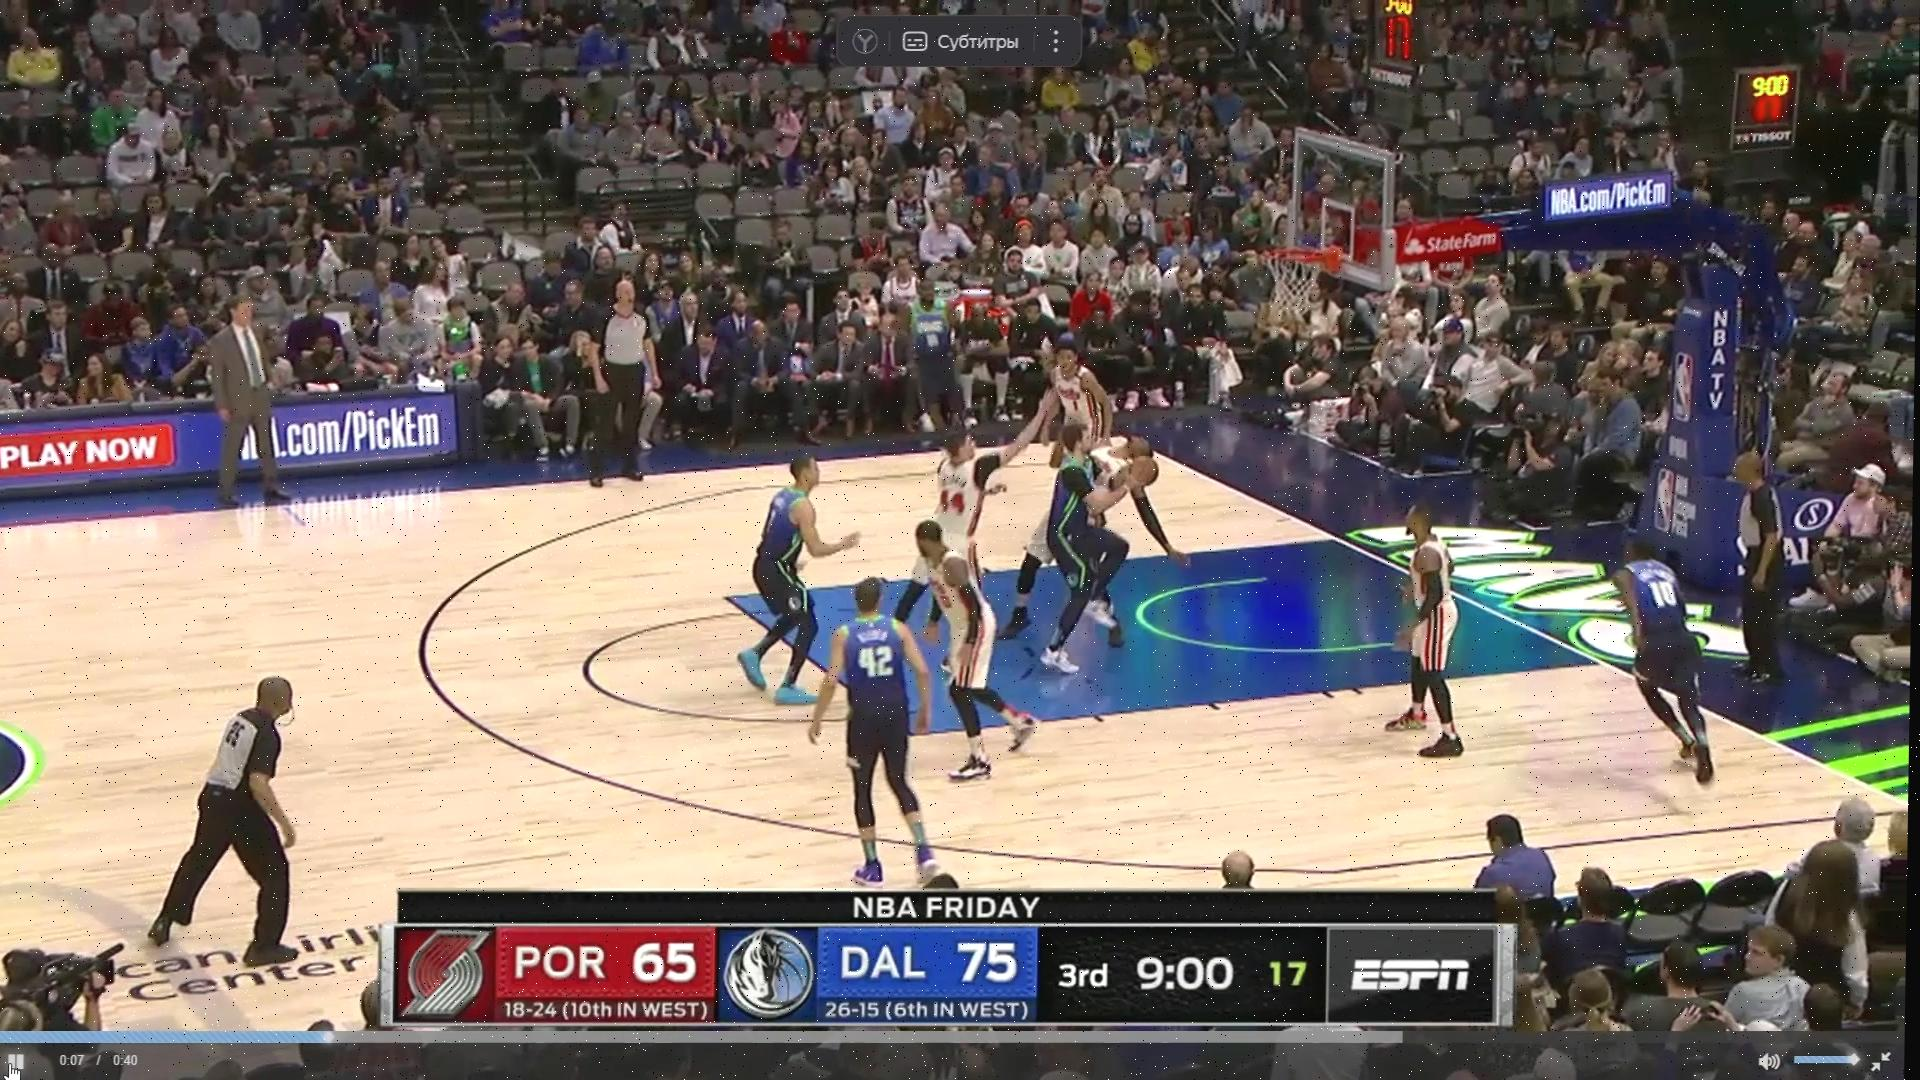foul: (1022, 407, 1183, 657)
